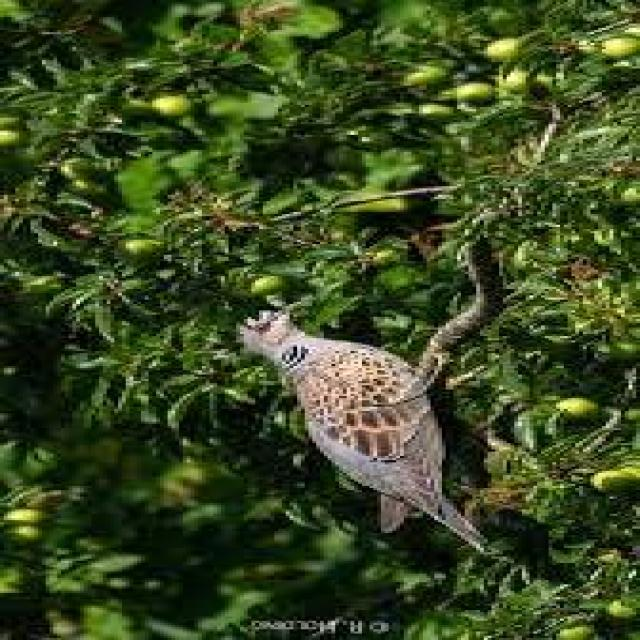pigeon: (217, 268, 515, 567)
